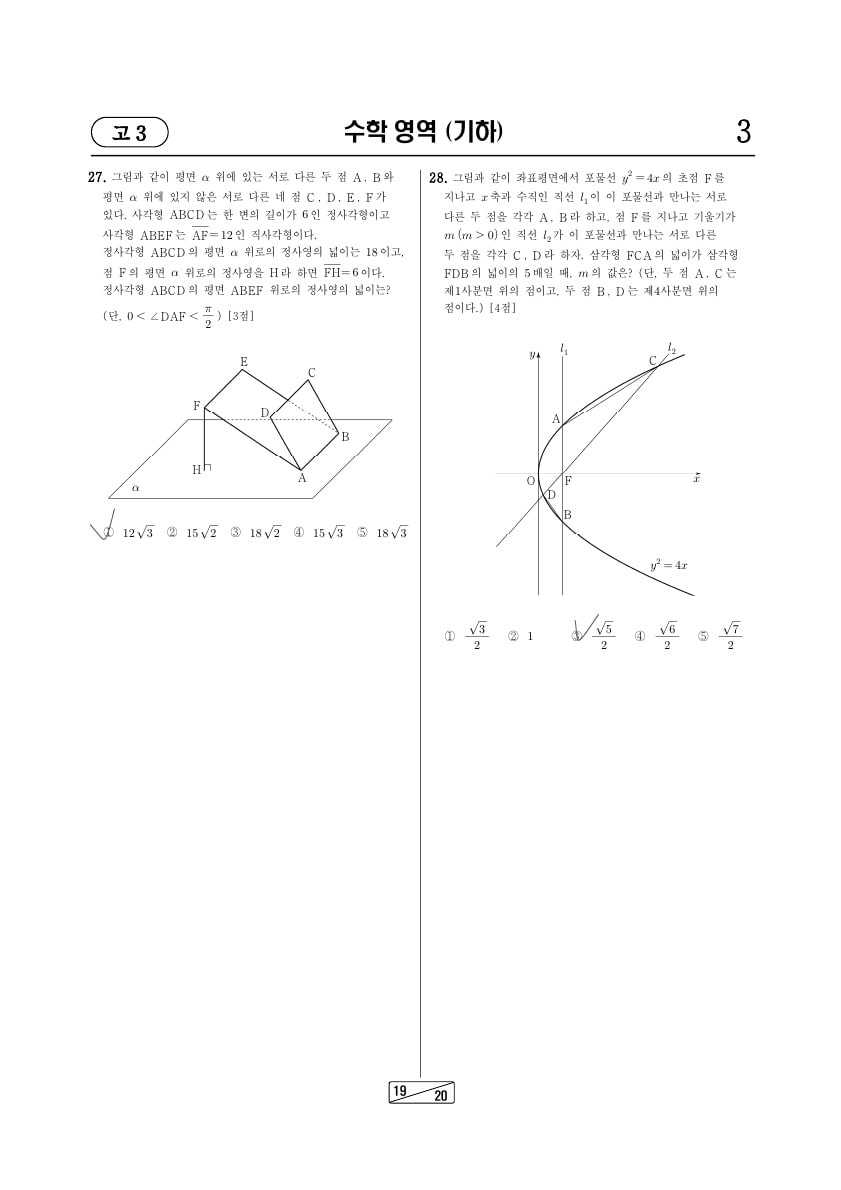question: (419, 160, 756, 666), (70, 160, 420, 563)
